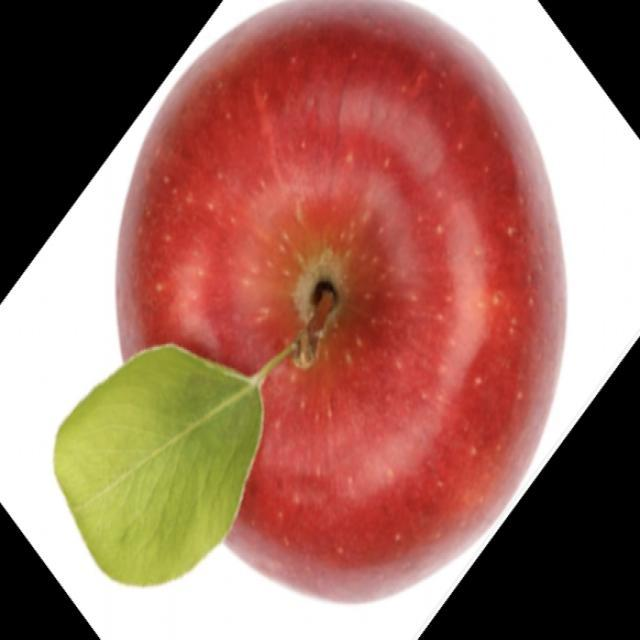Fresh Apple: (125, 23, 570, 595)
